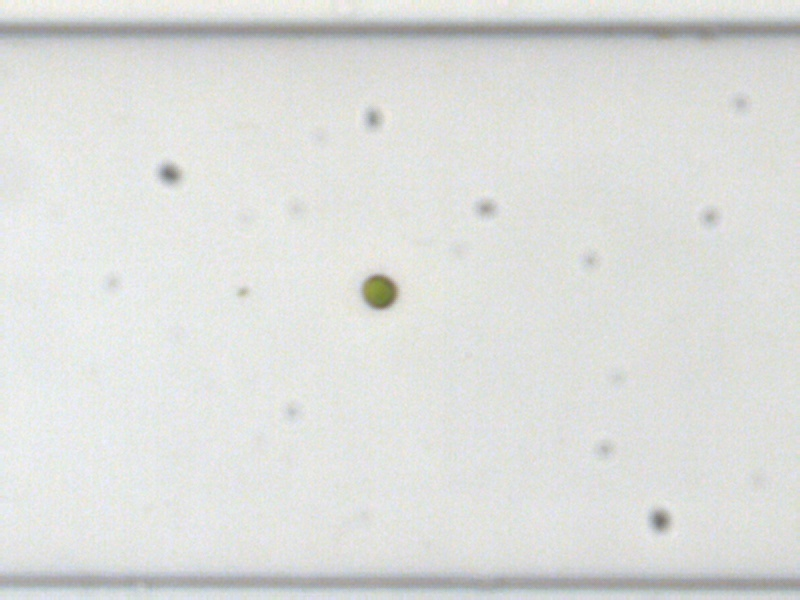Platymonas: (359, 273, 401, 311)
